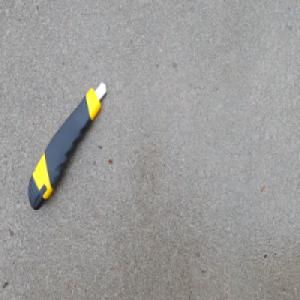Cutter: (27, 79, 107, 210)
